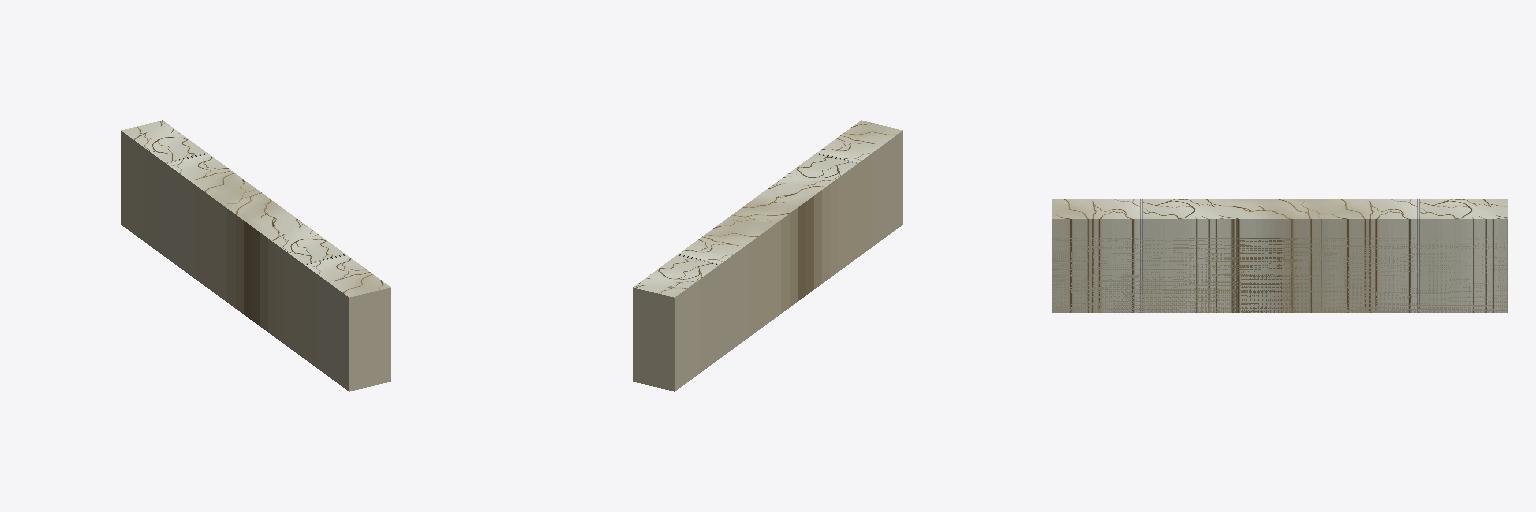
3 renders of one model, left to right at view 1: azimuth 30°, elevation 25°; view 2: azimuth 150°, elevation 25°; view 3: azimuth 270°, elevation 25°, orthographic.
Parts seen in each view (by area): view 1: Box011; view 2: Box011; view 3: Box011.
Part boxes in pixels (bbox=[...]): Box011: bbox=[121, 120, 390, 391]; Box011: bbox=[633, 120, 902, 391]; Box011: bbox=[1052, 199, 1507, 312].
Size of the model in its own units: 13.78 by 29.53 by 130.
Materials: 1 (1 with a texture image).